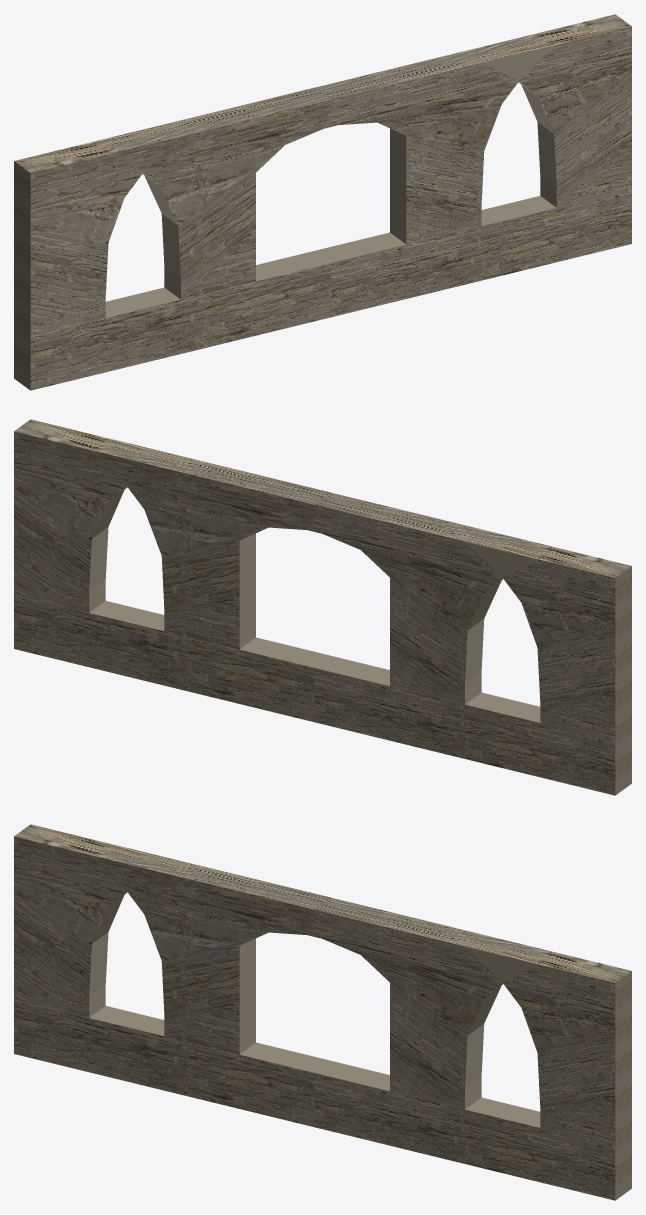
File: side wall 2.glb
3 renders of one model, top to bottom at view 1: azimuth 30°, elevation 25°; view 2: azimuth 150°, elevation 25°; view 3: azimuth 330°, elevation 25°, orthographic.
Visible parts, largest first — view 1: side wall 1.002; view 2: side wall 1.002; view 3: side wall 1.002.
Part boxes in pixels (box(x1,y1,x2,y2)): side wall 1.002: box(14, 14, 631, 390); side wall 1.002: box(14, 419, 631, 795); side wall 1.002: box(14, 824, 631, 1200).
Size of the model in its own units: 460 by 159 by 22.
1 material, 1 textured.
